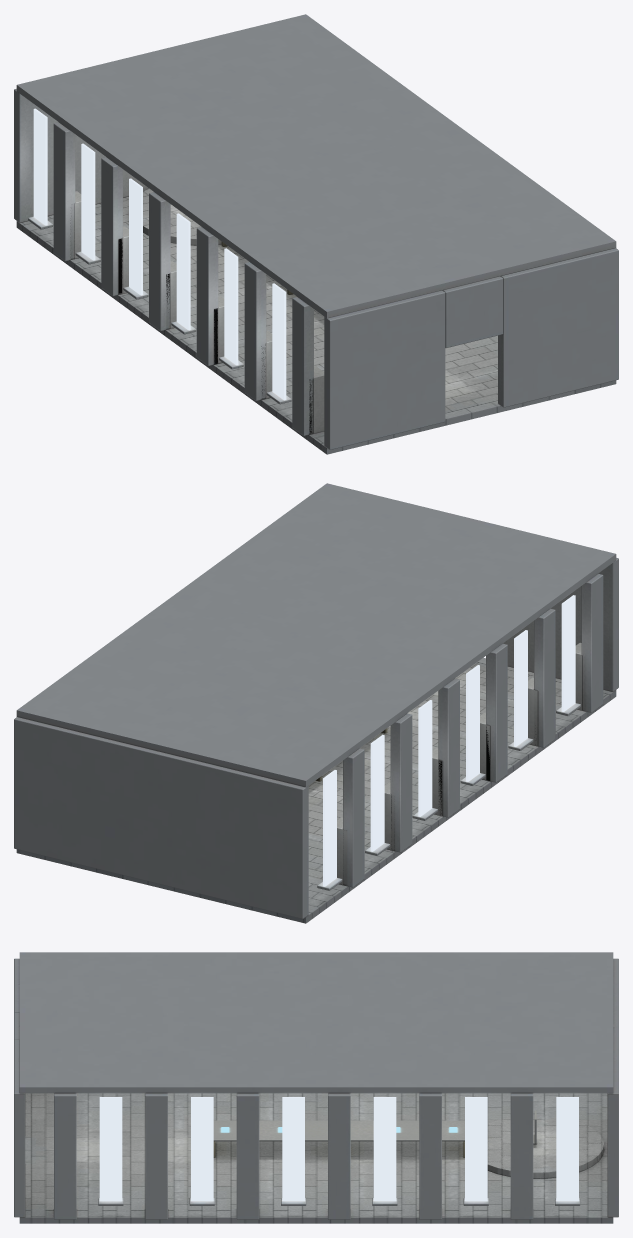
File: estate.glb
3 views of the same model, one above another, from view 1: azimuth 30°, elevation 25°; view 2: azimuth 150°, elevation 25°; view 3: azimuth 270°, elevation 25° (orthographic). The views are drawn at different scales.
Parts seen in each view (by area): view 1: Shell, Window1-1, Window3-1, Window5-1, Window9-1, Window11-1, Window7-1; view 2: Shell, Window7-1, Window9-1, Window1-1, Window3-1, Window11-1, Window5-1; view 3: Shell, Furniture, Window11, Window71, Window31, Window51, Window91, Window111.
Boxes of the visible parts, bbox=[...] form: Shell: bbox=[14, 14, 618, 454]; Window1-1: bbox=[272, 283, 286, 400]; Window3-1: bbox=[224, 248, 238, 365]; Window5-1: bbox=[176, 213, 190, 330]; Window9-1: bbox=[81, 143, 95, 260]; Window11-1: bbox=[33, 108, 47, 225]; Window7-1: bbox=[129, 178, 142, 295]; Shell: bbox=[14, 483, 618, 923]; Window7-1: bbox=[418, 700, 432, 816]; Window9-1: bbox=[370, 734, 384, 851]; Window1-1: bbox=[561, 595, 575, 711]; Window3-1: bbox=[514, 630, 527, 746]; Window11-1: bbox=[323, 770, 336, 886]; Window5-1: bbox=[466, 665, 479, 781]; Shell: bbox=[14, 952, 618, 1223]; Furniture: bbox=[213, 1110, 536, 1157]; Window11: bbox=[99, 1097, 122, 1201]; Window71: bbox=[373, 1097, 396, 1201]; Window31: bbox=[191, 1097, 213, 1201]; Window51: bbox=[282, 1097, 304, 1201]; Window91: bbox=[465, 1097, 487, 1201]; Window111: bbox=[556, 1097, 578, 1201].
Bounding box in the file's own units: 14.6 × 6.6 × 26.5.
Materials: 4 (2 with a texture image).
